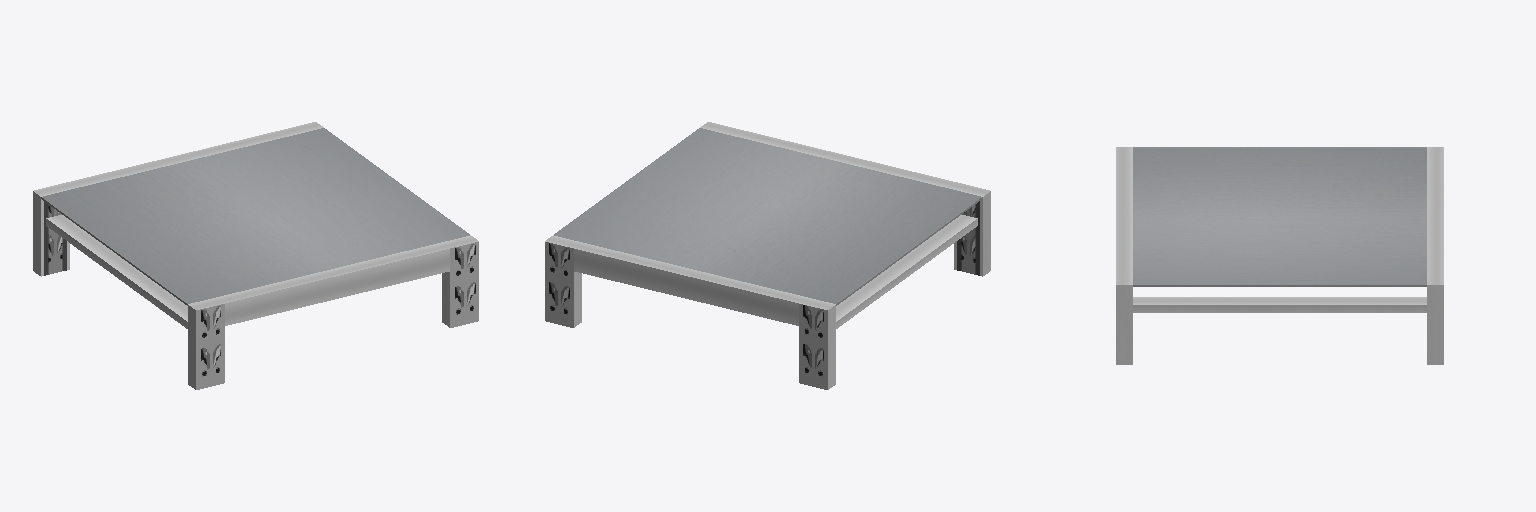
3 views of the same model, side by side, from view 1: azimuth 30°, elevation 25°; view 2: azimuth 150°, elevation 25°; view 3: azimuth 270°, elevation 25° (orthographic).
Visible parts, largest first — view 1: Mesh1; view 2: Mesh1; view 3: Mesh1.
Part boxes in pixels (bbox=[...]): Mesh1: bbox=[33, 122, 478, 389]; Mesh1: bbox=[545, 122, 990, 389]; Mesh1: bbox=[1116, 147, 1443, 364].
Size of the model in its own units: 780 by 210 by 780.
Materials: 1 (1 with a texture image).